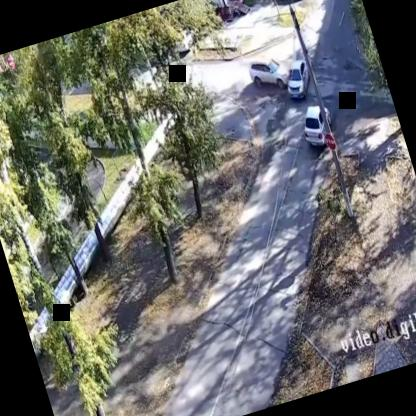accident: (242, 36, 320, 112)
